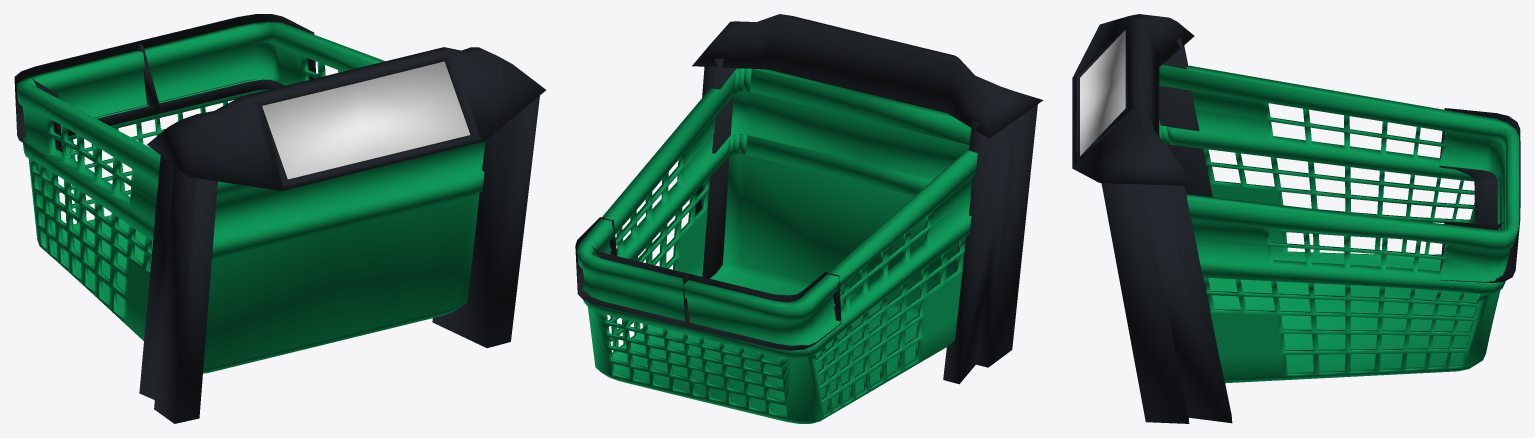
File: gwc.glb
3 views of the same model, side by side, from view 1: azimuth 30°, elevation 25°; view 2: azimuth 150°, elevation 25°; view 3: azimuth 270°, elevation 25° (orthographic). The views are drawn at different scales.
Visible parts, largest first — view 1: mesh1, mesh1.001; view 2: mesh1; view 3: mesh1, mesh1.001.
Boxes of the visible parts, x1,y1,x2,y2 form: mesh1: (14, 14, 545, 423); mesh1.001: (262, 61, 470, 179); mesh1: (575, 14, 1043, 423); mesh1: (1072, 14, 1520, 423); mesh1.001: (1080, 30, 1125, 155).
Bounding box in the file's own units: 1.04 × 0.8888 × 1.24.
